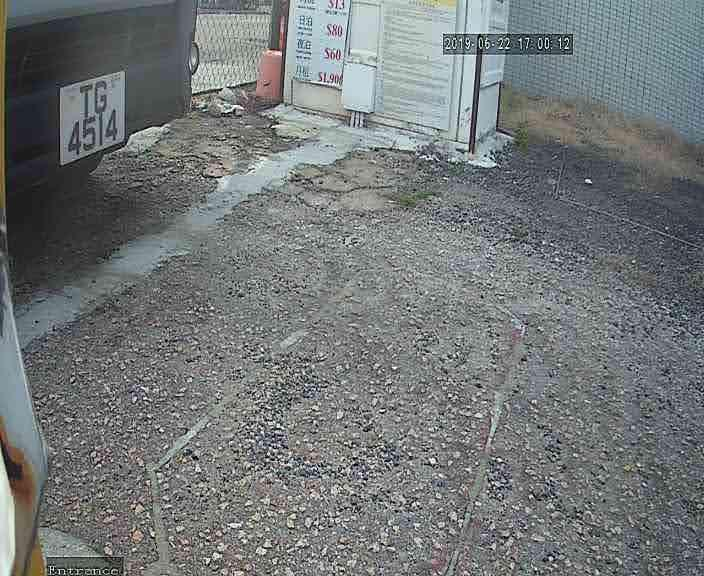privatecar: (2, 2, 222, 221)
